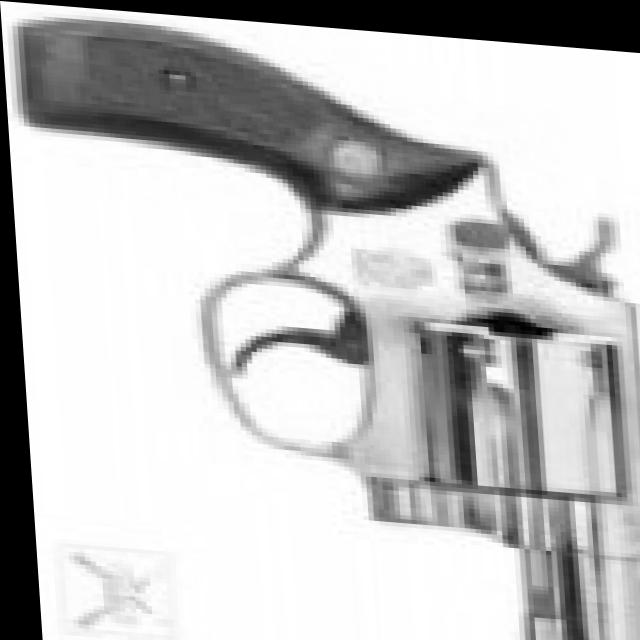handgun: (23, 21, 640, 640)
